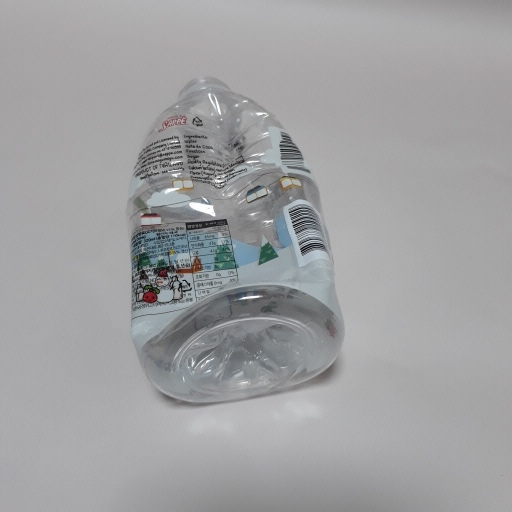Plastic_0: (126, 75, 347, 401)
